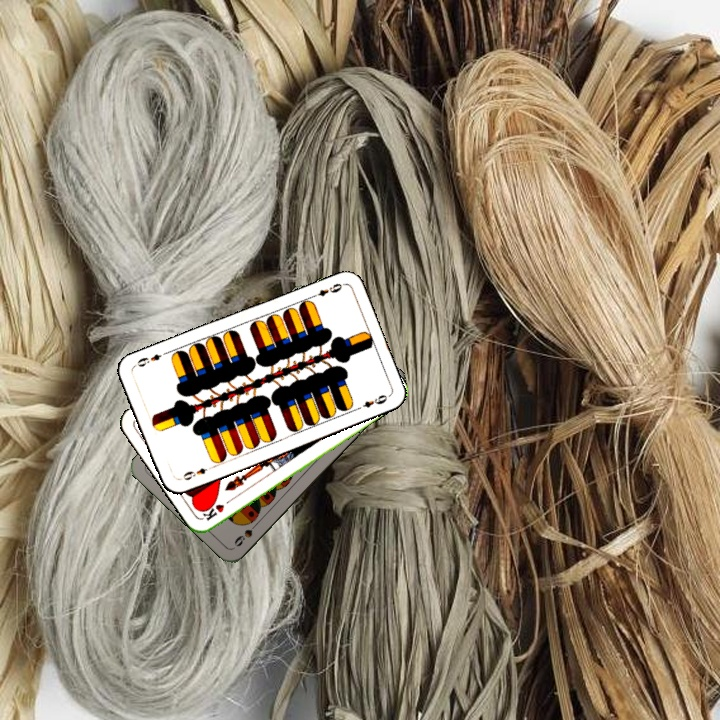E9: (307, 279, 346, 301), (176, 463, 210, 483)
HK: (198, 493, 236, 523)
S9: (230, 517, 262, 549)
